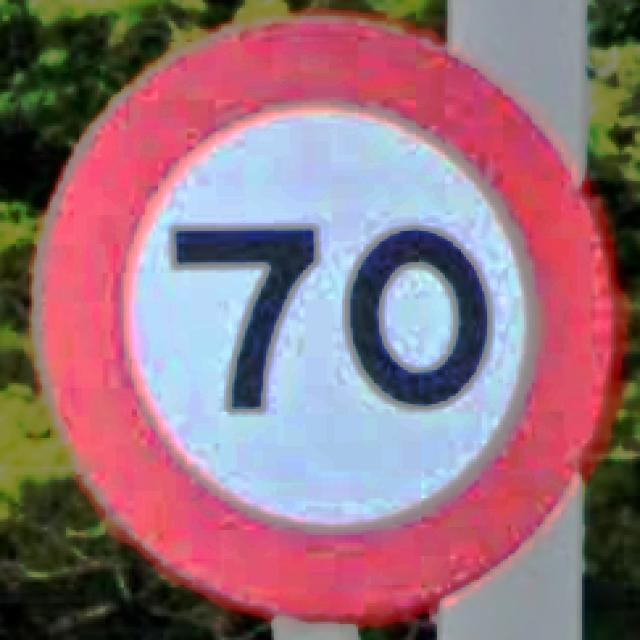max70: (26, 8, 624, 622)
